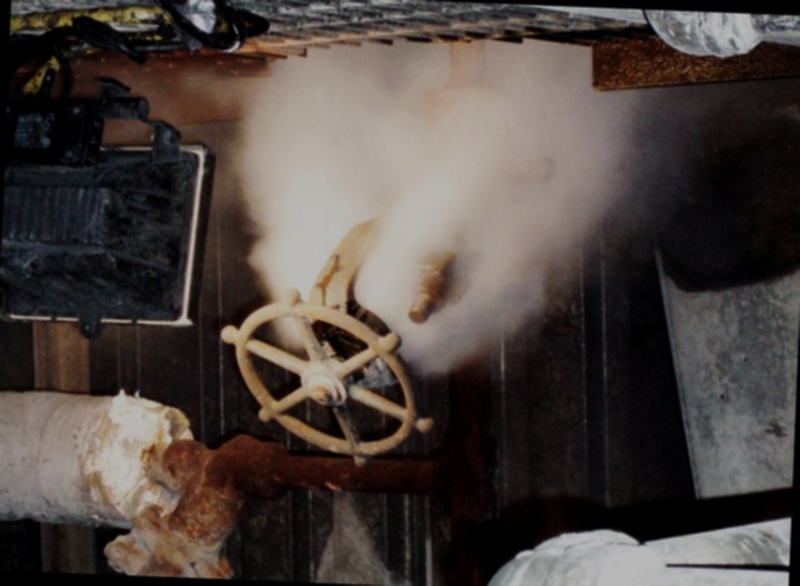smoke: (277, 65, 583, 307)
